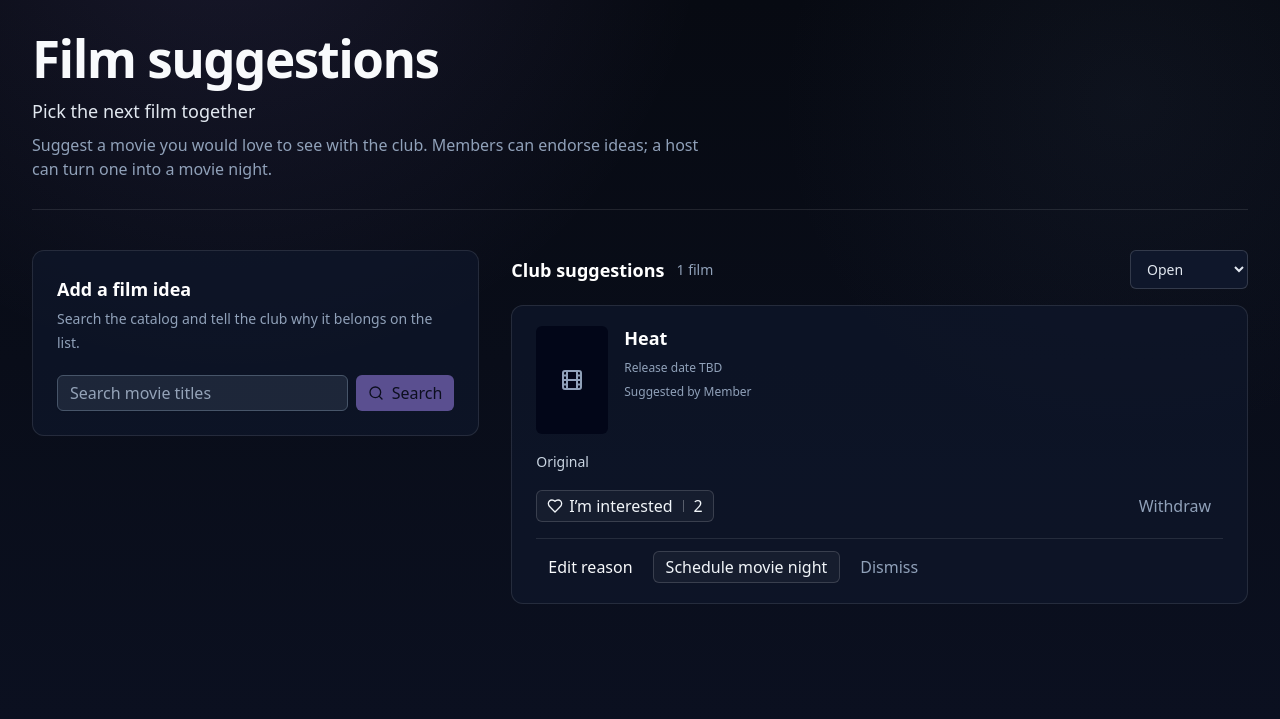
Test: film proposal controls › requires a dismissal reason and refreshes after a stale version
Click the button "Dismiss" at (889, 567), box [848,551,930,583]
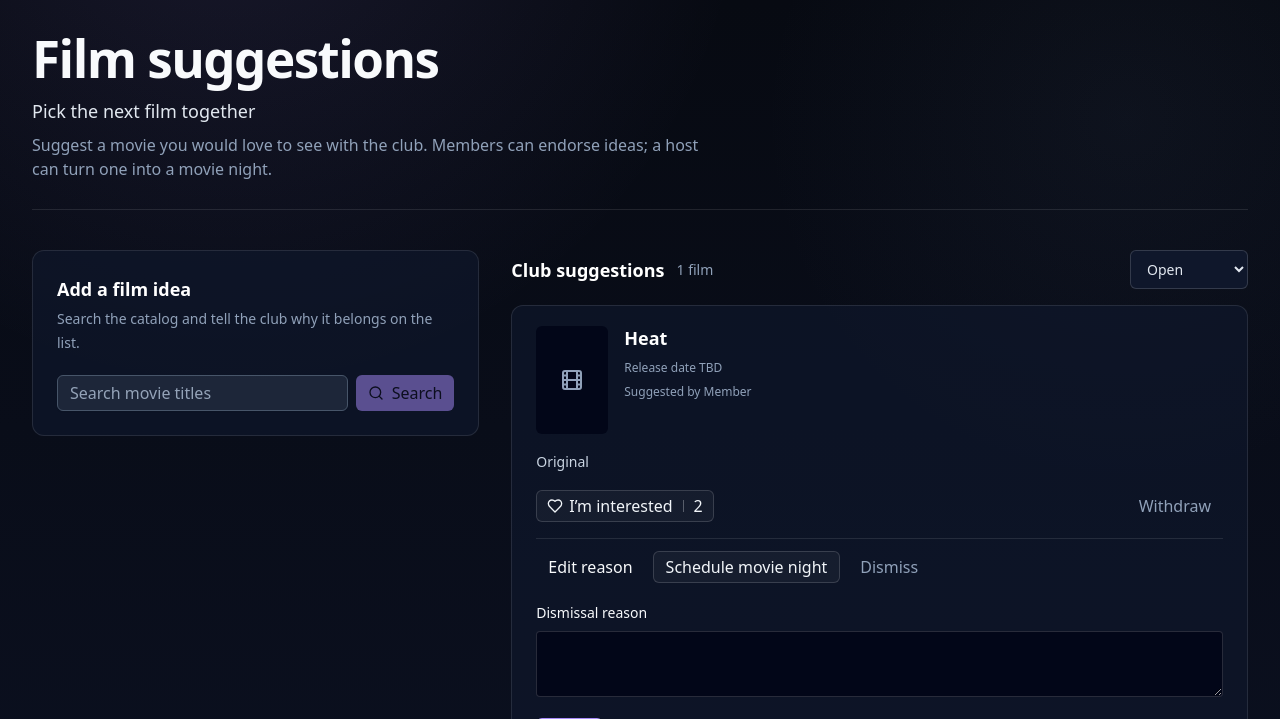
Type "Outside club scope" into the text box labelled "Dismissal reason" at (880, 664), box [536,631,1223,697]
(page scrolled)
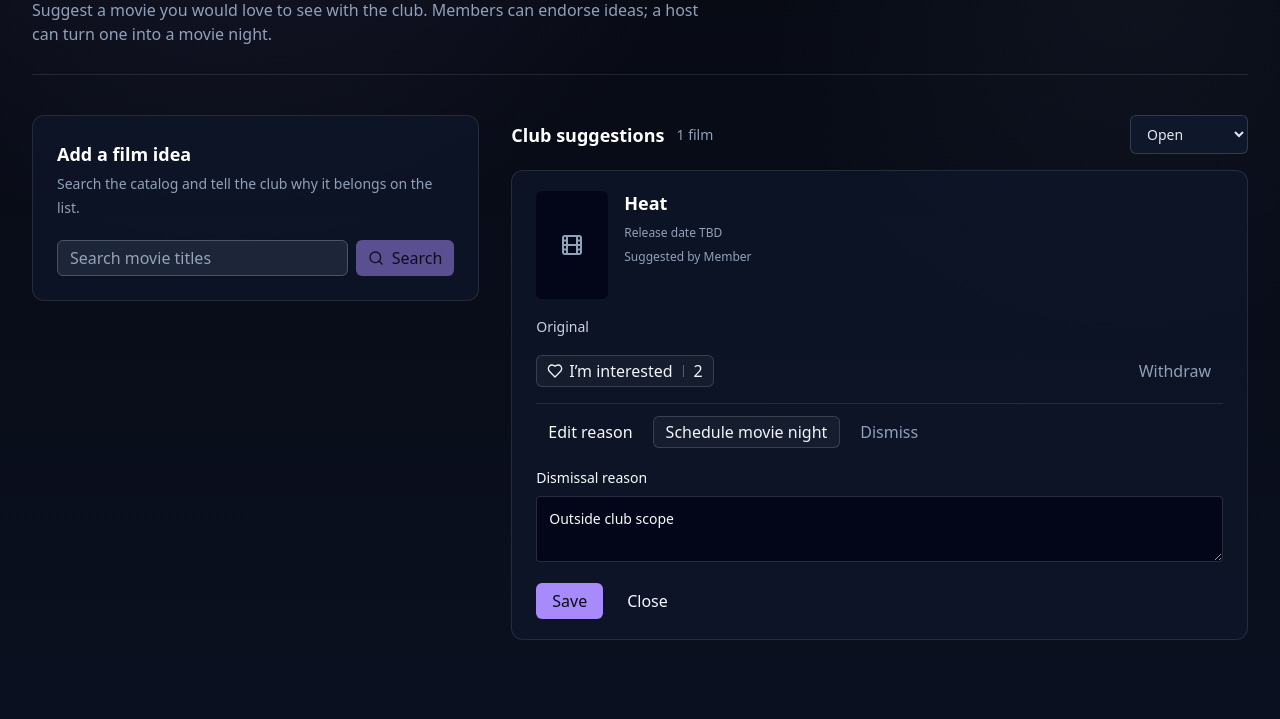
Click the button "Save" at (570, 601), box [536,583,603,619]
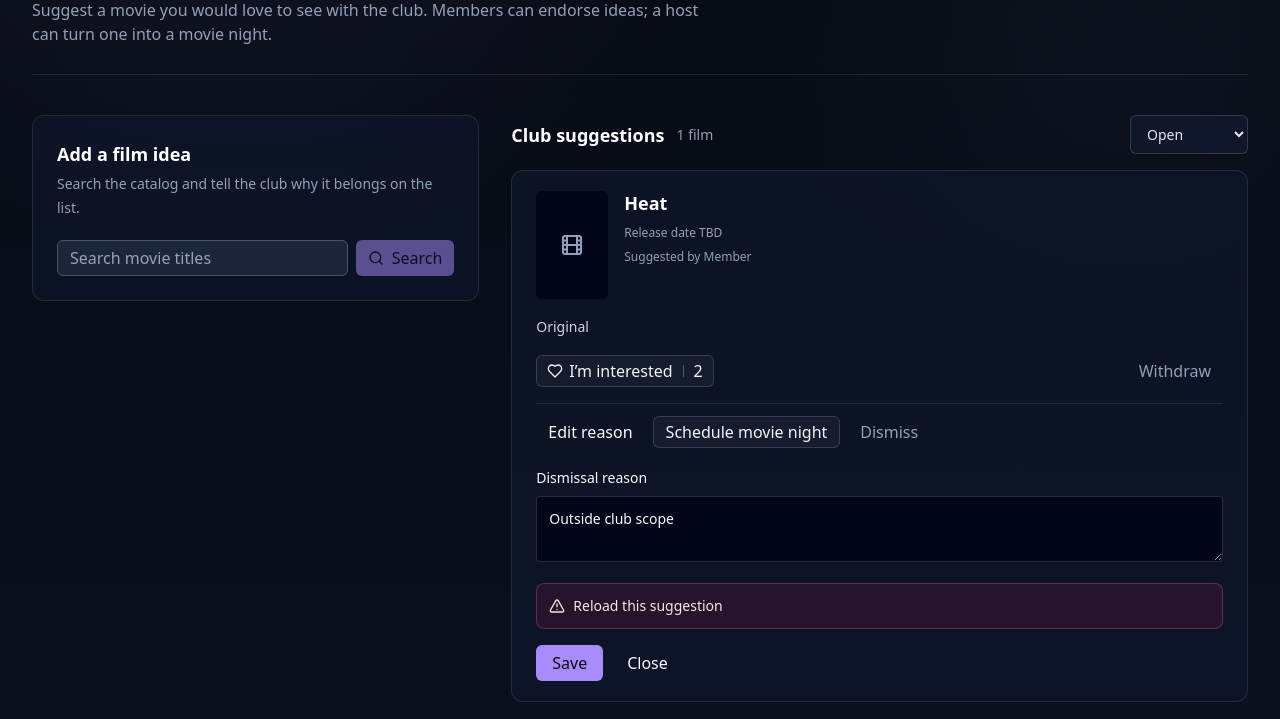
Check: the text "Reload this suggestion" is shown, box [573,596,723,616]
